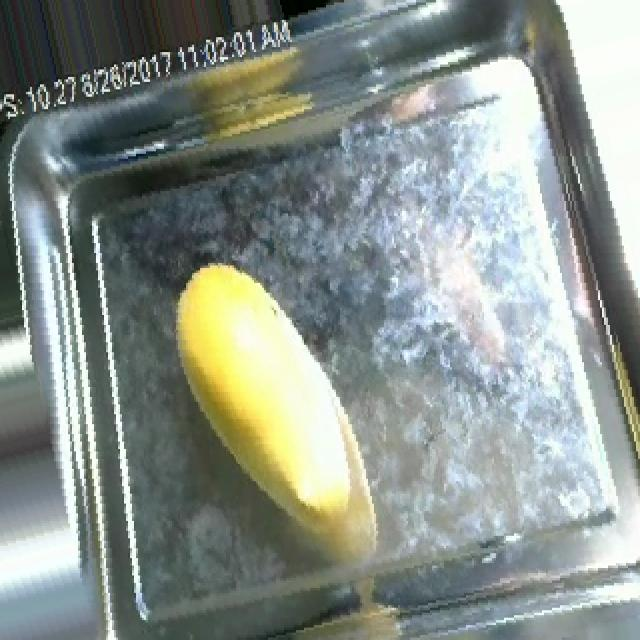fruit: (144, 233, 408, 543)
